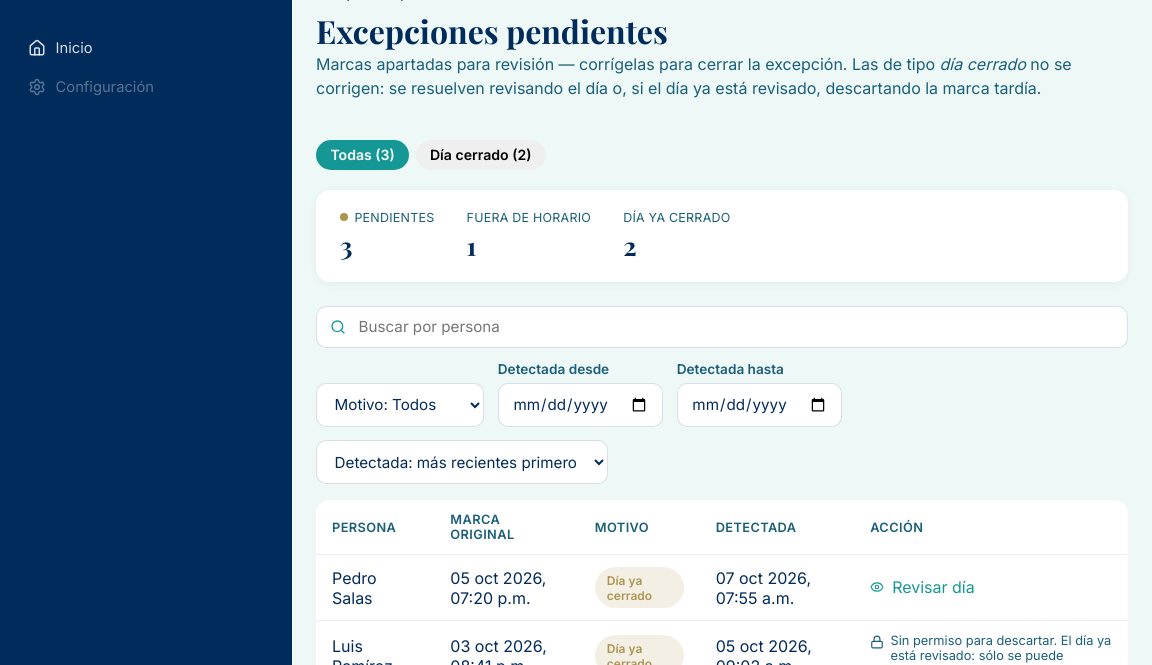
Scenario: ColaExcepcionesPage › excepciones de día cerrado › la pestaña Día cerrado deja sólo esas excepciones, con fecha del día y estado del día
This screenshot has width=1152, height=665.
Click the tab "Día cerrado (2)" at (481, 155), box [416,140,546,170]
(page scrolled)
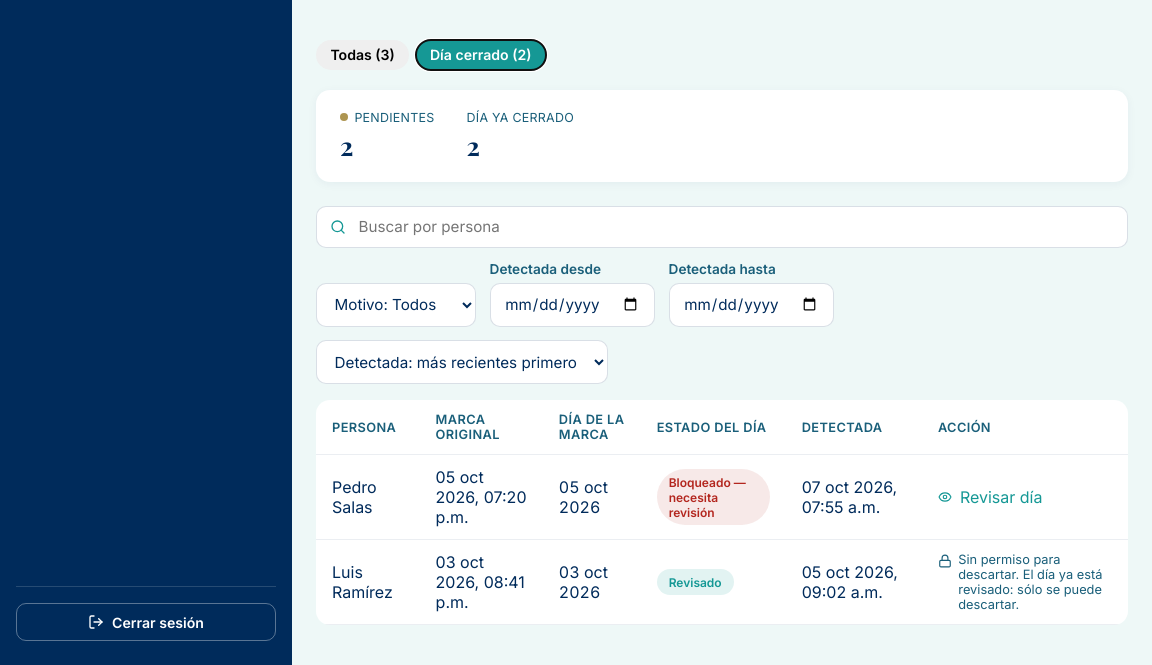
Result: the text "05 oct 2026" is shown at [543,455,641,540]
Result: the text "Bloqueado — necesita revisión" is shown at [657,469,770,525]
Result: the text "Revisado" is shown at [657,569,734,595]
